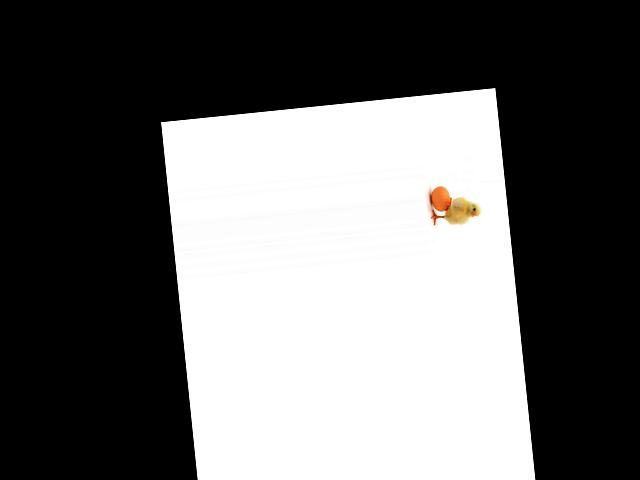egg: (429, 185, 451, 213)
